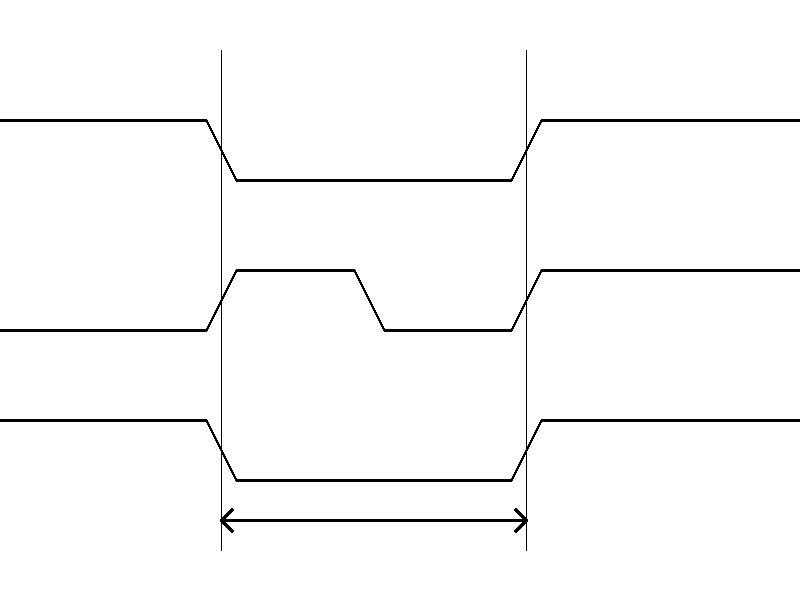double_arrow: (221, 505, 526, 535)
